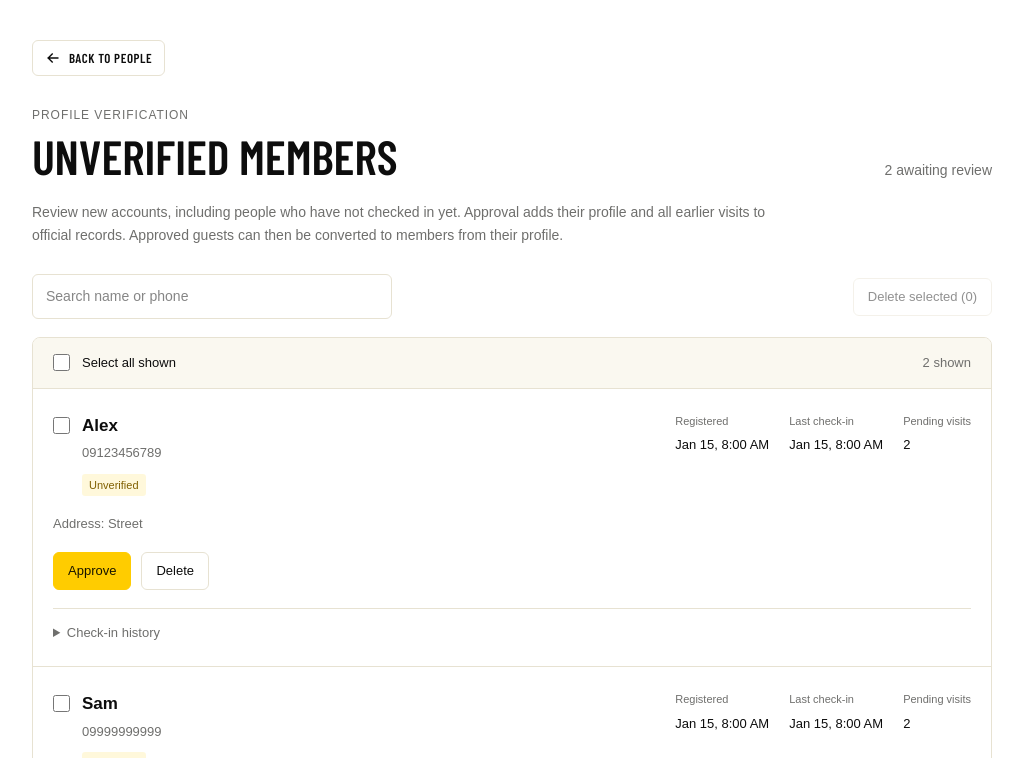
Test: requires explicit confirmation to approve and sends an authenticated review request
Click the button "Approve" at point(92, 571), box [53,552,131,590]
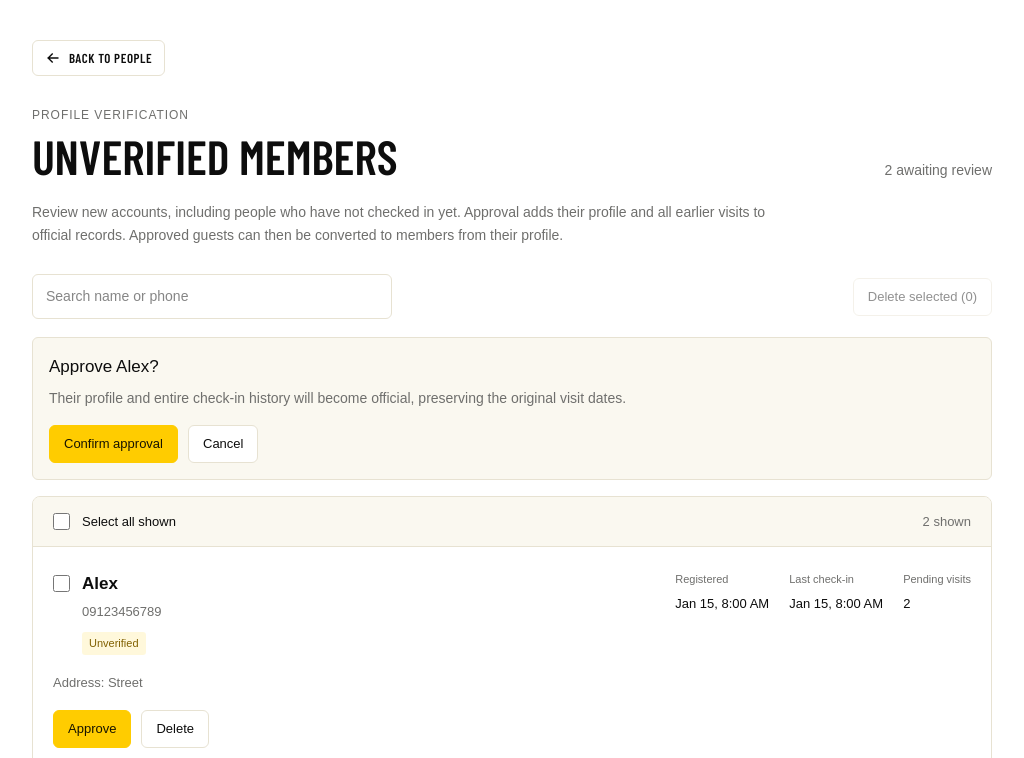
Expected: the heading "Approve Alex?" is shown, [49,357,159,376]
Click the button "Confirm approval" at point(114, 444), box [49,425,178,463]
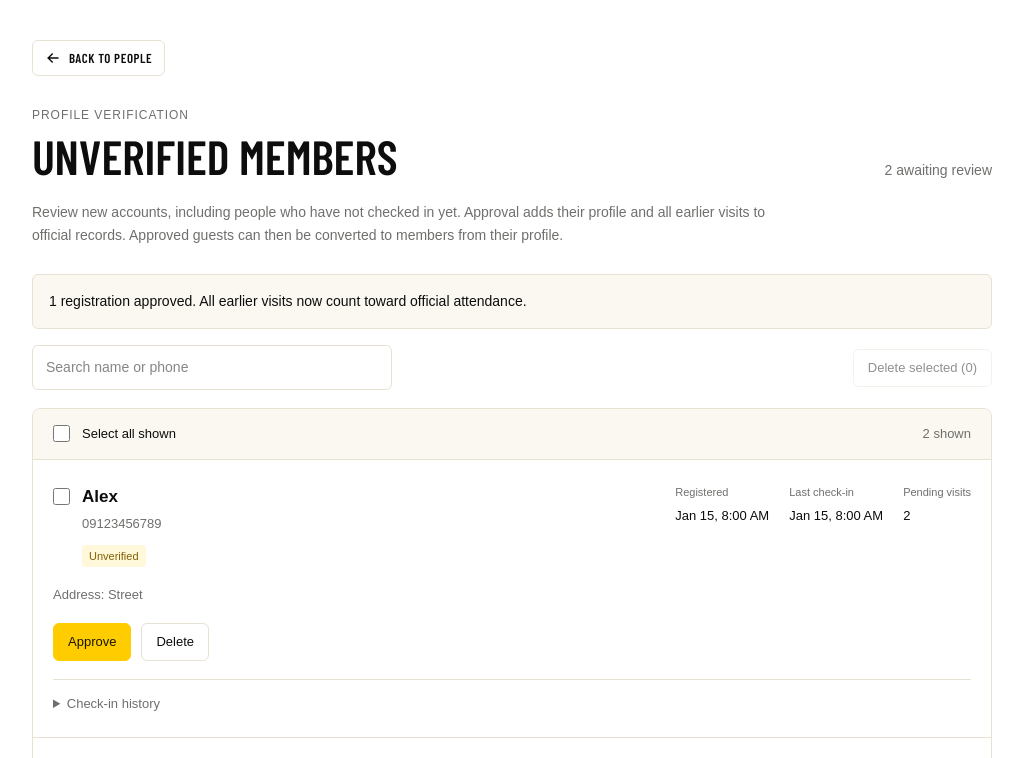
Expected: the message shows "All earlier visits now count", [49,293,527,309]
